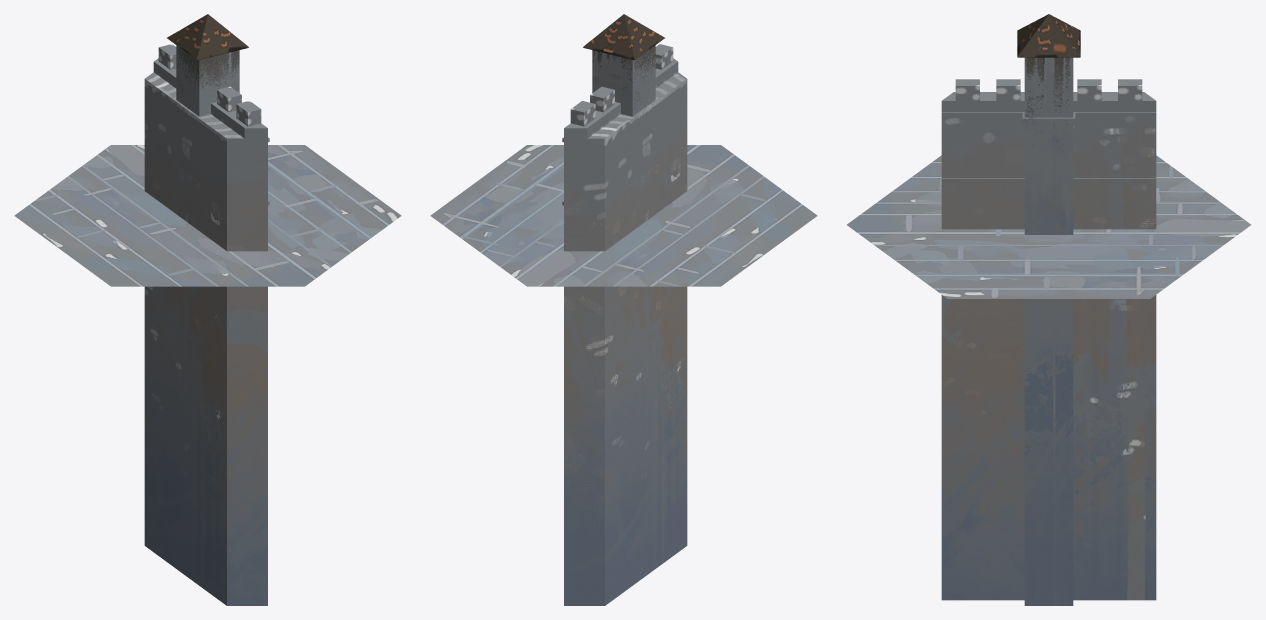
File: castle_placeholder.gltf
3 renders of one model, left to right at view 1: azimuth 30°, elevation 25°; view 2: azimuth 150°, elevation 25°; view 3: azimuth 270°, elevation 25°, orthographic. The views are drawn at different scales.
Visible parts, largest first — view 1: Keep_placeholder_wall_01, Keep_placeholder_floor_01, Keep_placeholder_tower_01, Castle_placeholder_wall_01; view 2: Keep_placeholder_wall_01, Keep_placeholder_floor_01, Castle_placeholder_wall_01, Keep_placeholder_tower_01; view 3: Keep_placeholder_wall_01, Keep_placeholder_floor_01, Keep_placeholder_tower_01, Castle_placeholder_wall_01.
Part boxes in pixels (left/top/right/bottom): Keep_placeholder_wall_01: left=144, top=44, right=269, bottom=605; Keep_placeholder_floor_01: left=14, top=145, right=401, bottom=286; Keep_placeholder_tower_01: left=167, top=14, right=248, bottom=117; Castle_placeholder_wall_01: left=144, top=143, right=269, bottom=251; Keep_placeholder_wall_01: left=562, top=44, right=687, bottom=605; Keep_placeholder_floor_01: left=430, top=145, right=817, bottom=286; Castle_placeholder_wall_01: left=562, top=143, right=687, bottom=605; Keep_placeholder_tower_01: left=583, top=14, right=664, bottom=117; Keep_placeholder_wall_01: left=941, top=79, right=1156, bottom=600; Keep_placeholder_floor_01: left=847, top=155, right=1250, bottom=298; Keep_placeholder_tower_01: left=1017, top=14, right=1080, bottom=605; Castle_placeholder_wall_01: left=941, top=167, right=1156, bottom=229.
Size of the model in its own units: 8.66 by 15.84 by 10.
Materials: 1 (1 with a texture image).
